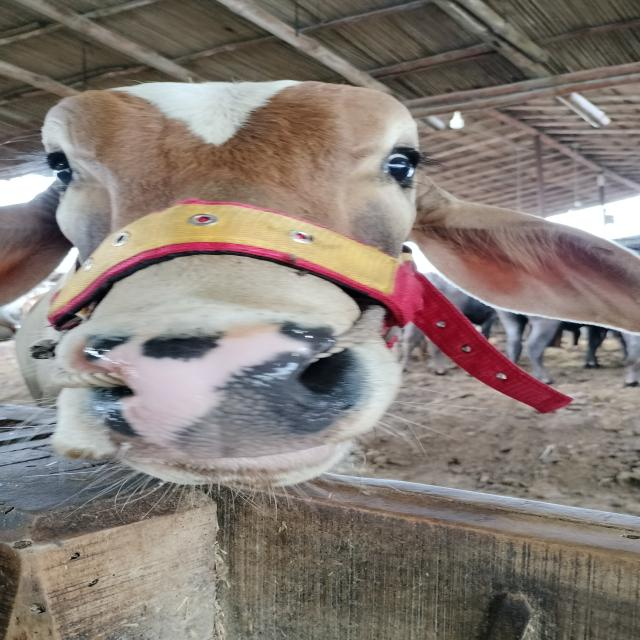muzzles: (54, 317, 383, 467)
